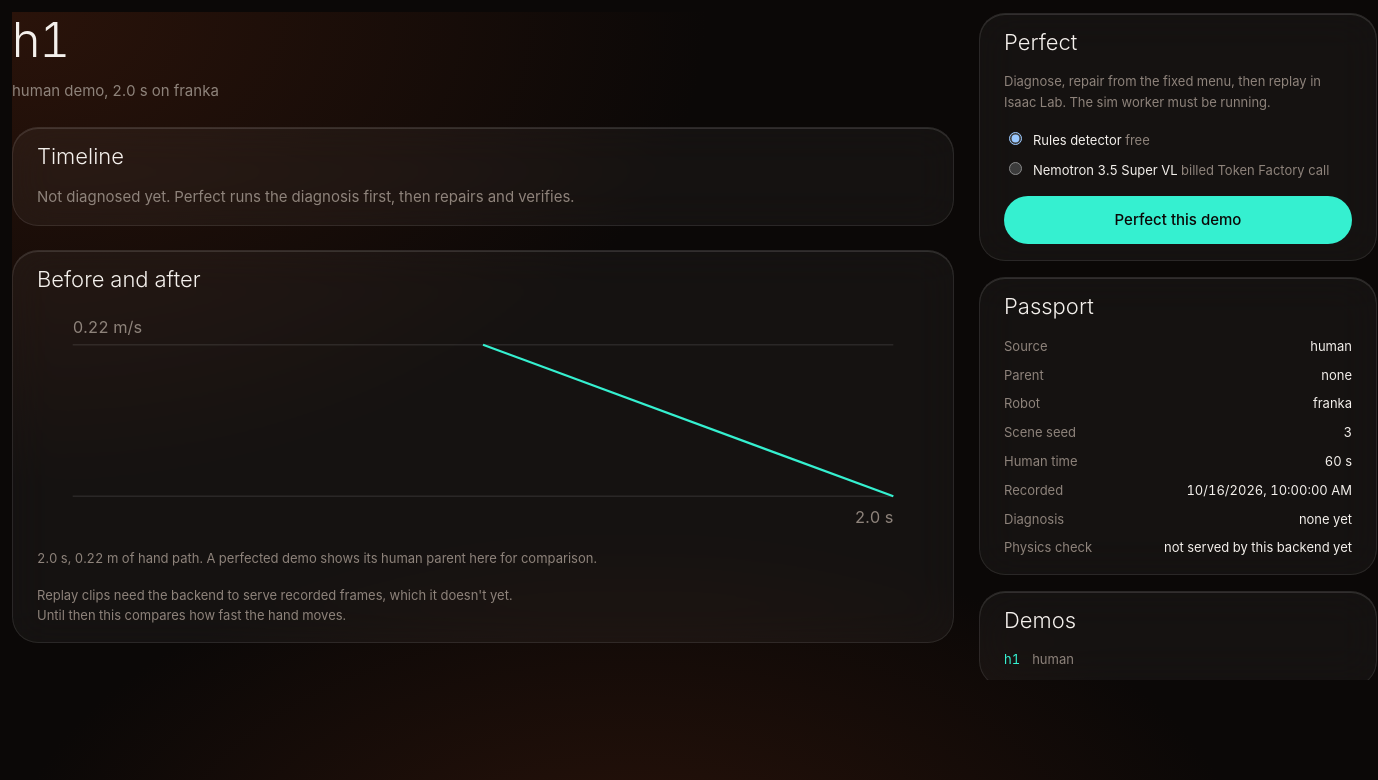
Review page › runs a labelled mock job when the backend has no perfect route
Click the button "Perfect this demo": (1178, 220) [1004,196,1352,244]
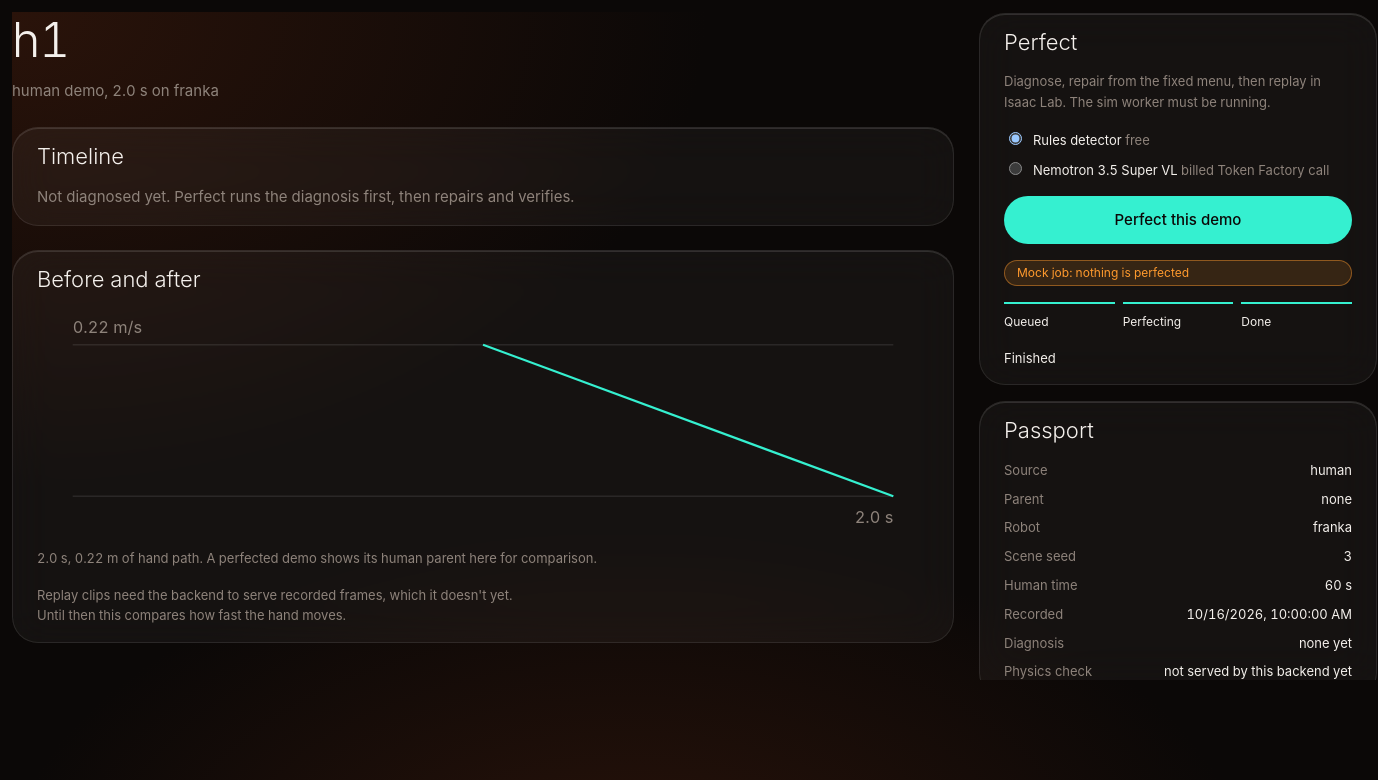
expect the text "Mock job: nothing is perfected" is shown: met, box [1017,268,1189,280]
expect the text "Finished" is shown: met, box [1004,350,1056,366]
